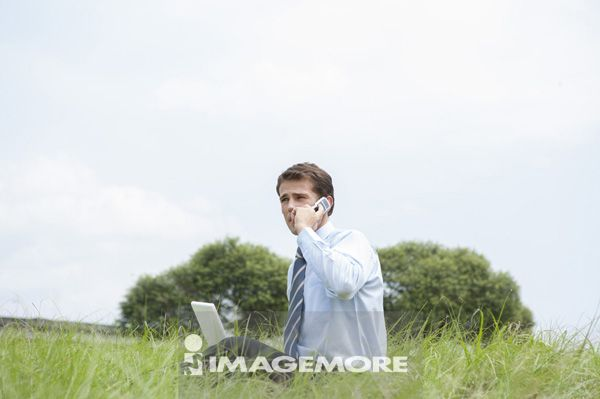talk: (280, 188, 331, 233)
